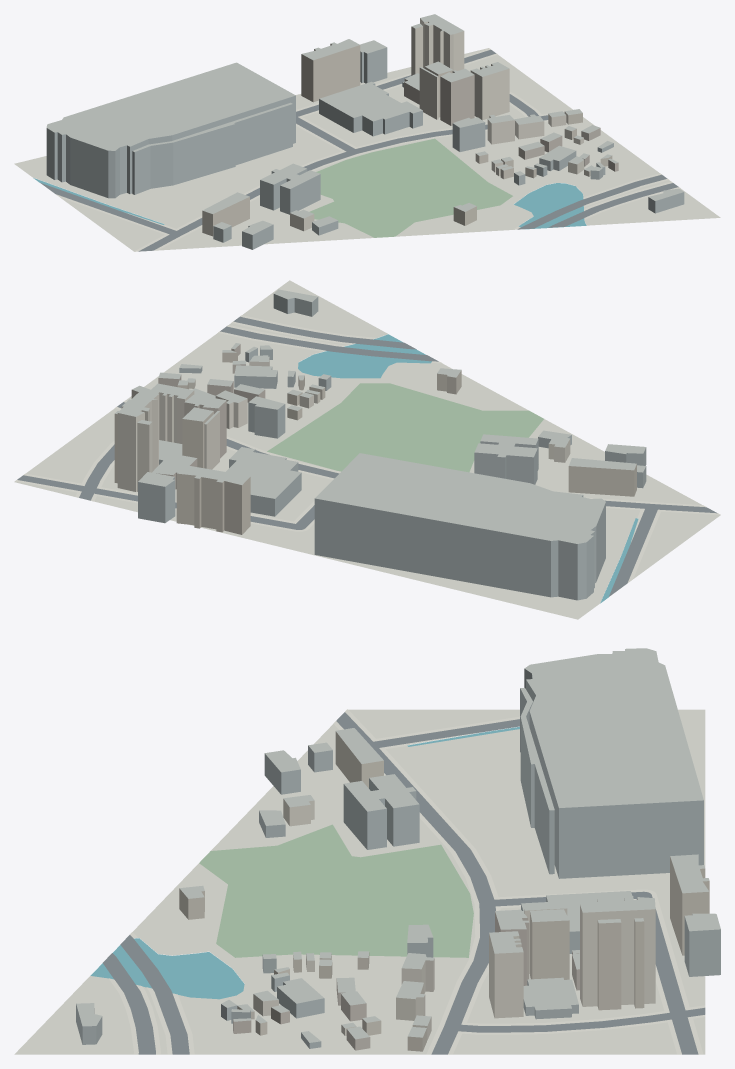
3 renders of one model, top to bottom at view 1: azimuth 30°, elevation 25°; view 2: azimuth 150°, elevation 25°; view 3: azimuth 270°, elevation 25°, orthographic. The views are drawn at different scales.
Visible parts, largest first — view 1: city; view 2: city; view 3: city.
Boxes of the visible parts, x1,y1,x2,y2 form: city: [14, 14, 720, 251]; city: [14, 280, 720, 619]; city: [14, 648, 720, 1054].
Size of the model in its own units: 500 by 63.88 by 433.
